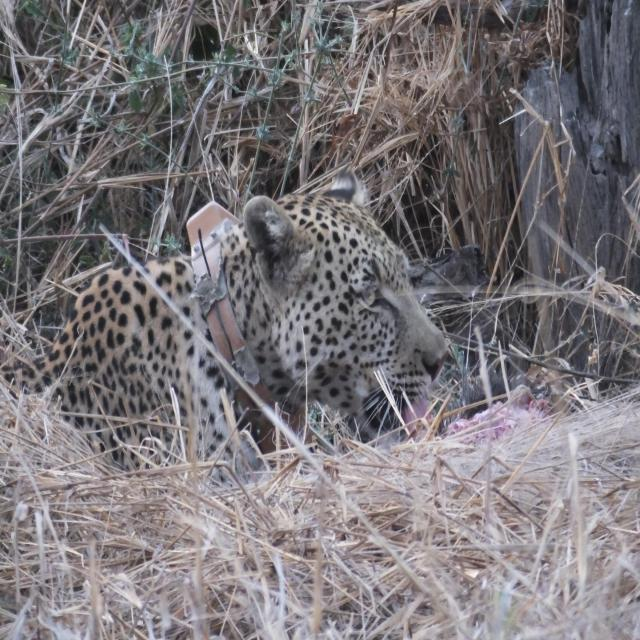Leopard: (7, 176, 448, 476)
